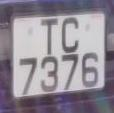3: (39, 55, 62, 95)
6: (79, 48, 102, 92)
7: (15, 52, 40, 99), (60, 51, 81, 93)
C: (59, 16, 84, 58)
T: (36, 15, 63, 61)
